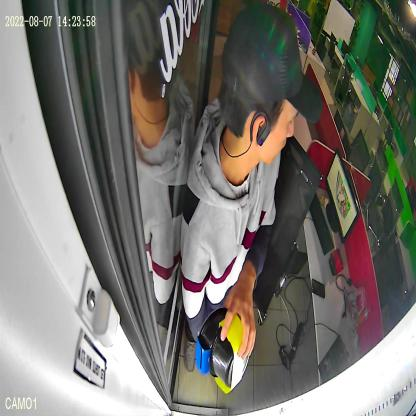blue: (195, 307, 228, 374)
yellow: (210, 312, 250, 394)
